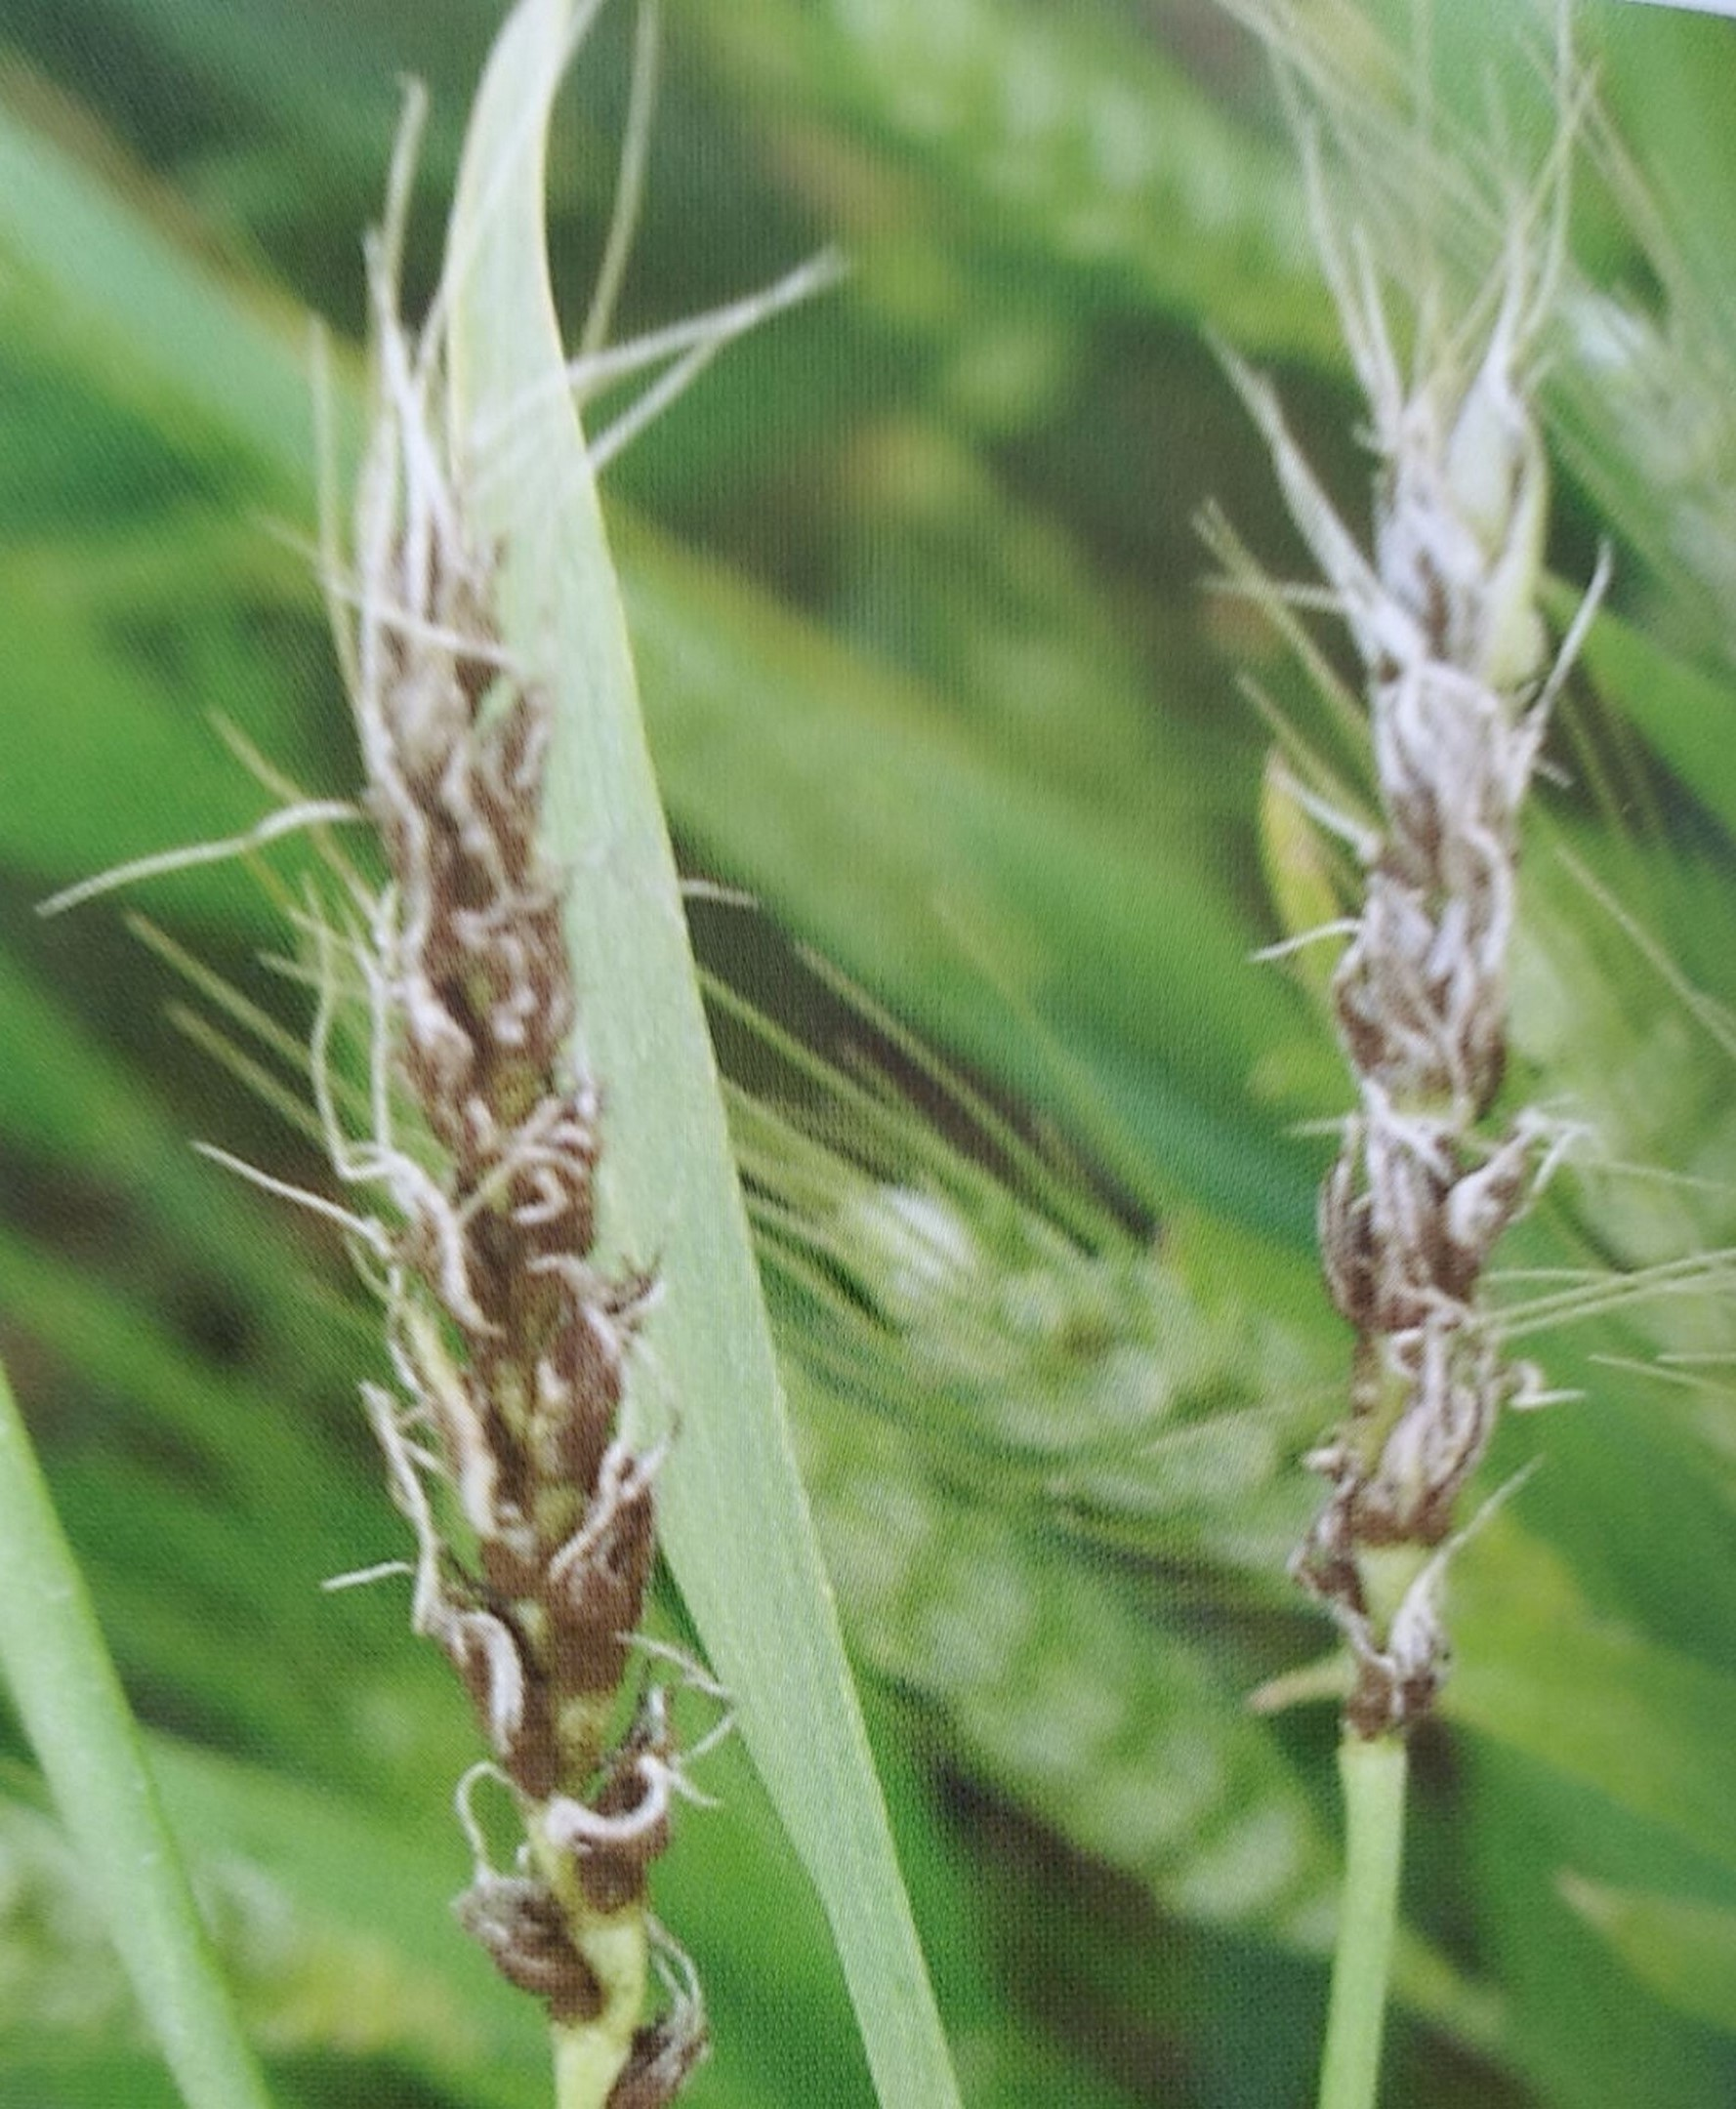Wheat Loose Smut: (324, 624, 701, 2028)
